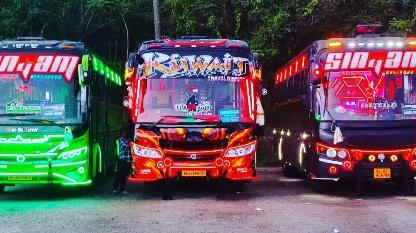bus: (274, 24, 416, 202), (125, 32, 265, 197), (0, 39, 119, 197)
